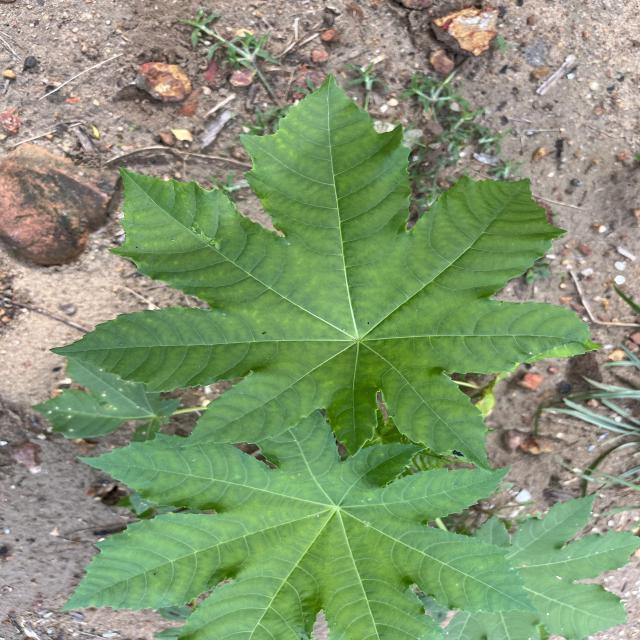Ricinus communis linn: (45, 70, 604, 478), (56, 409, 548, 640)
